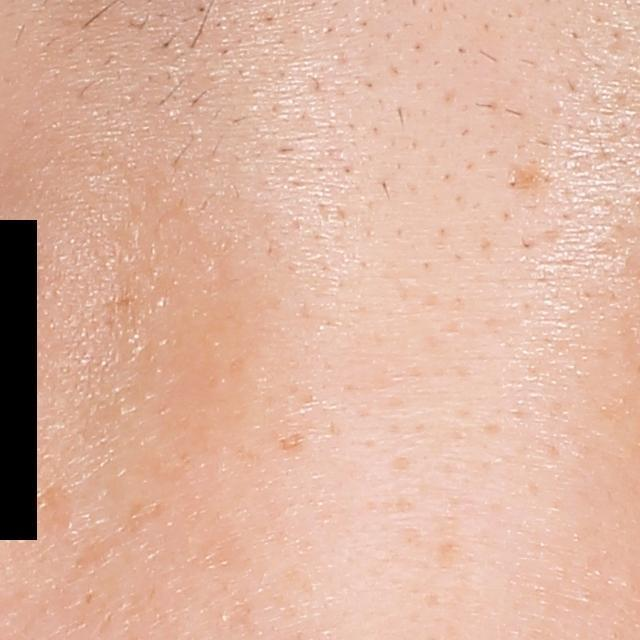melasma: (65, 499, 170, 588), (29, 481, 76, 534), (507, 161, 551, 190), (277, 431, 306, 453)
